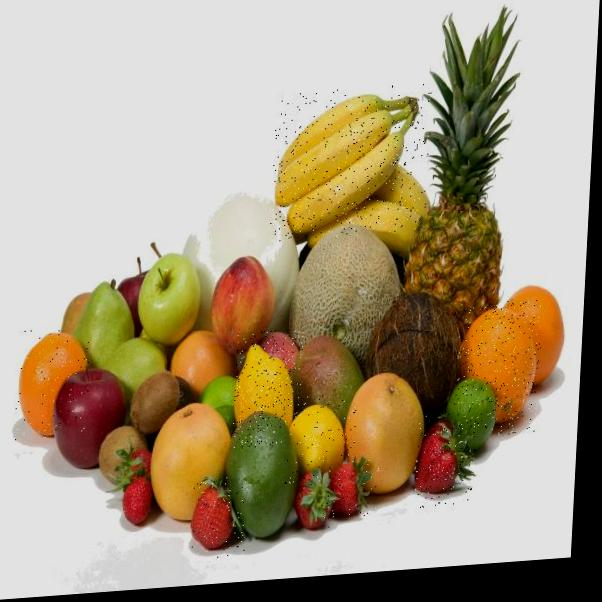Banana: (274, 83, 432, 241), (269, 112, 422, 230)
Lemon: (231, 329, 304, 450), (281, 393, 358, 490)
Orange: (453, 299, 543, 440), (14, 325, 92, 440)
Strawberry: (414, 411, 477, 512), (188, 476, 248, 562), (319, 459, 380, 529)
